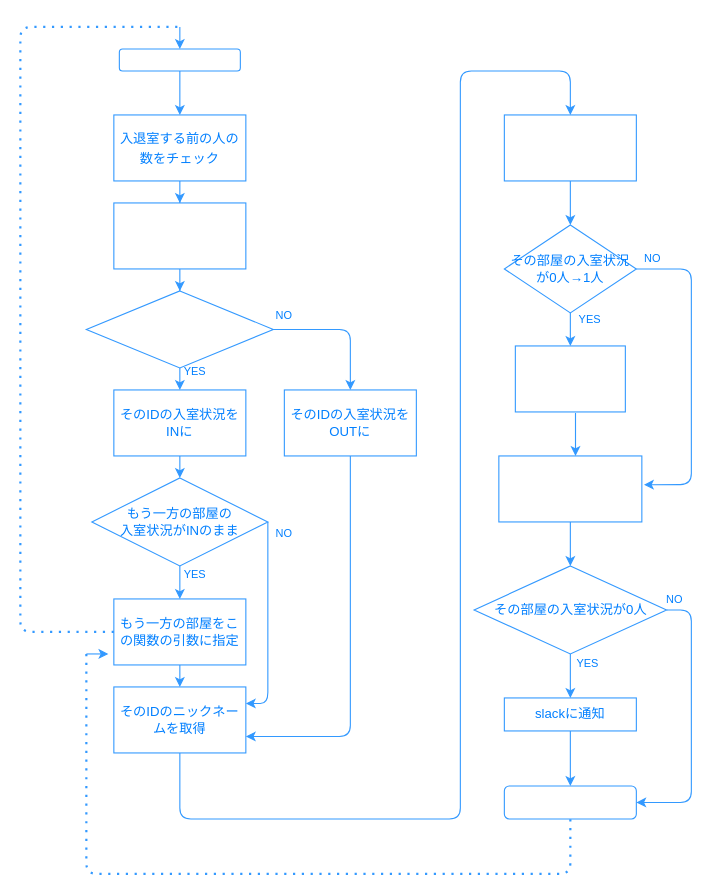
The diagram is 719 pixels wide and 895 high, and some of its shapes have lost their labels. The shapes that lost their labels are listed below. From the top down, each one's centre as x and y in pixels, then its label:
(569,147): 入退室した後の人数を取得
(179,235): そのIDに関しての情報を取得
(179,329): その人の入退室状況がOUT
(569,378): 開室メッセージを送る
(570,488): そのIDの人が入った、退室したというメッセージを送る
